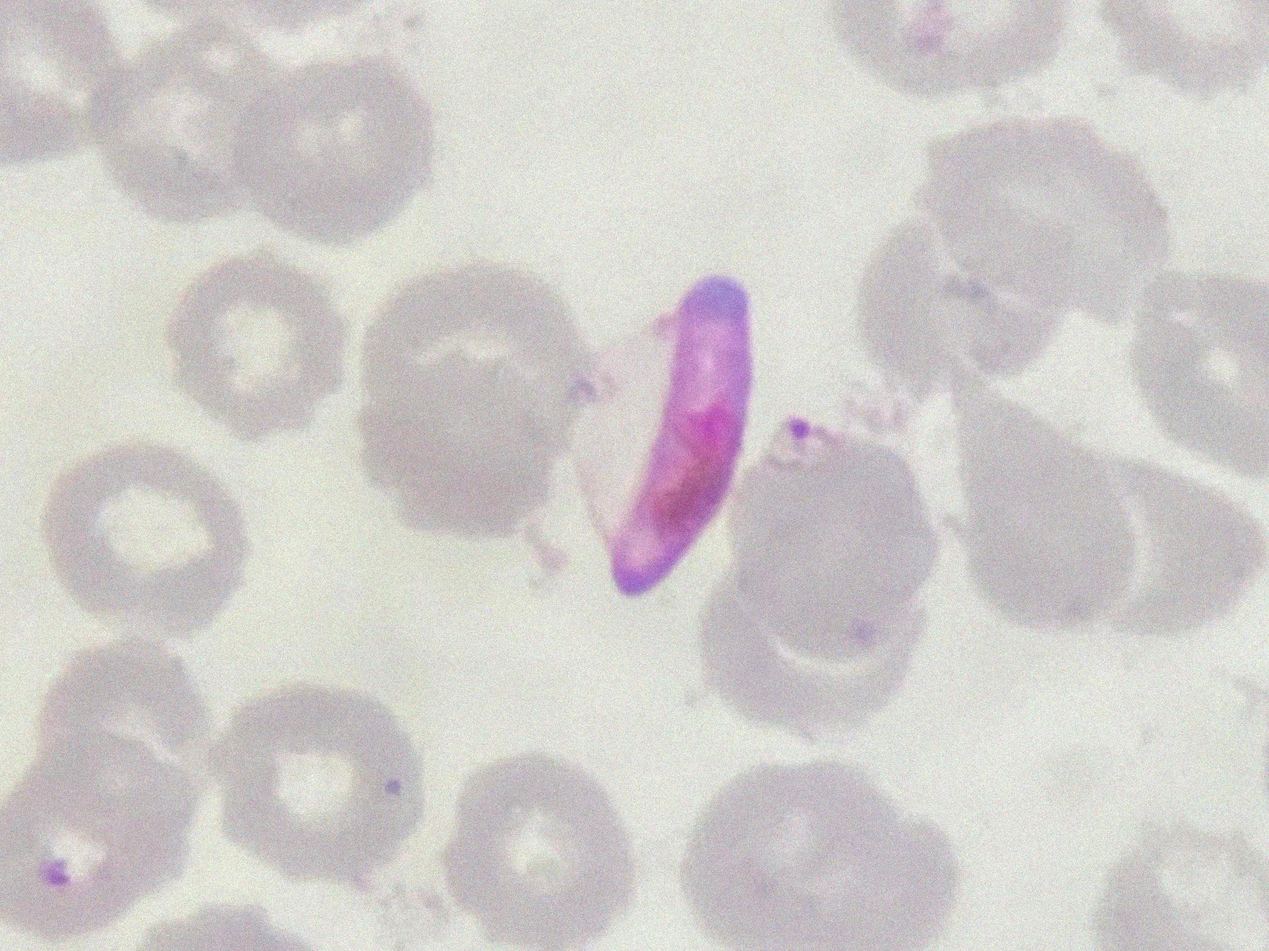Infected: (572, 275, 754, 598)
Uninfected: (362, 260, 594, 538), (684, 757, 954, 951), (930, 118, 1177, 327), (947, 375, 1139, 627), (725, 415, 932, 648), (0, 729, 198, 940), (218, 688, 425, 889), (45, 440, 248, 629), (230, 58, 437, 243), (448, 752, 639, 951), (1069, 453, 1269, 641), (84, 27, 265, 227), (697, 569, 910, 734), (170, 247, 347, 442), (858, 210, 1045, 394), (1122, 261, 1269, 476), (35, 640, 220, 809)
